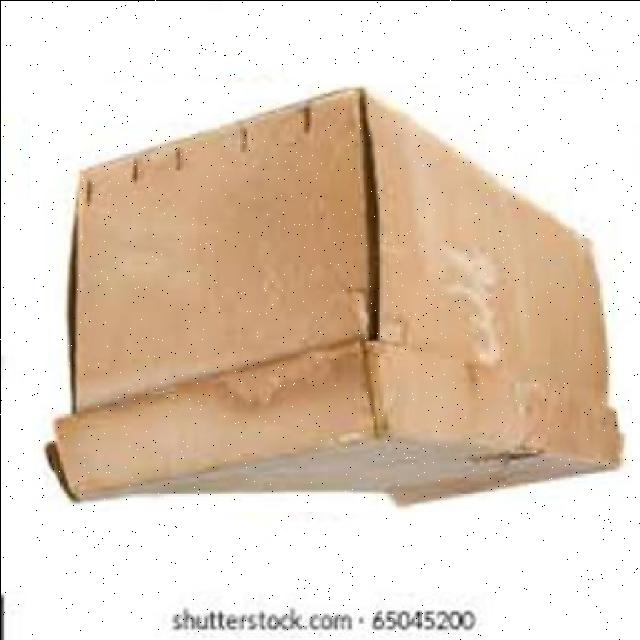defect: (29, 83, 631, 511)
